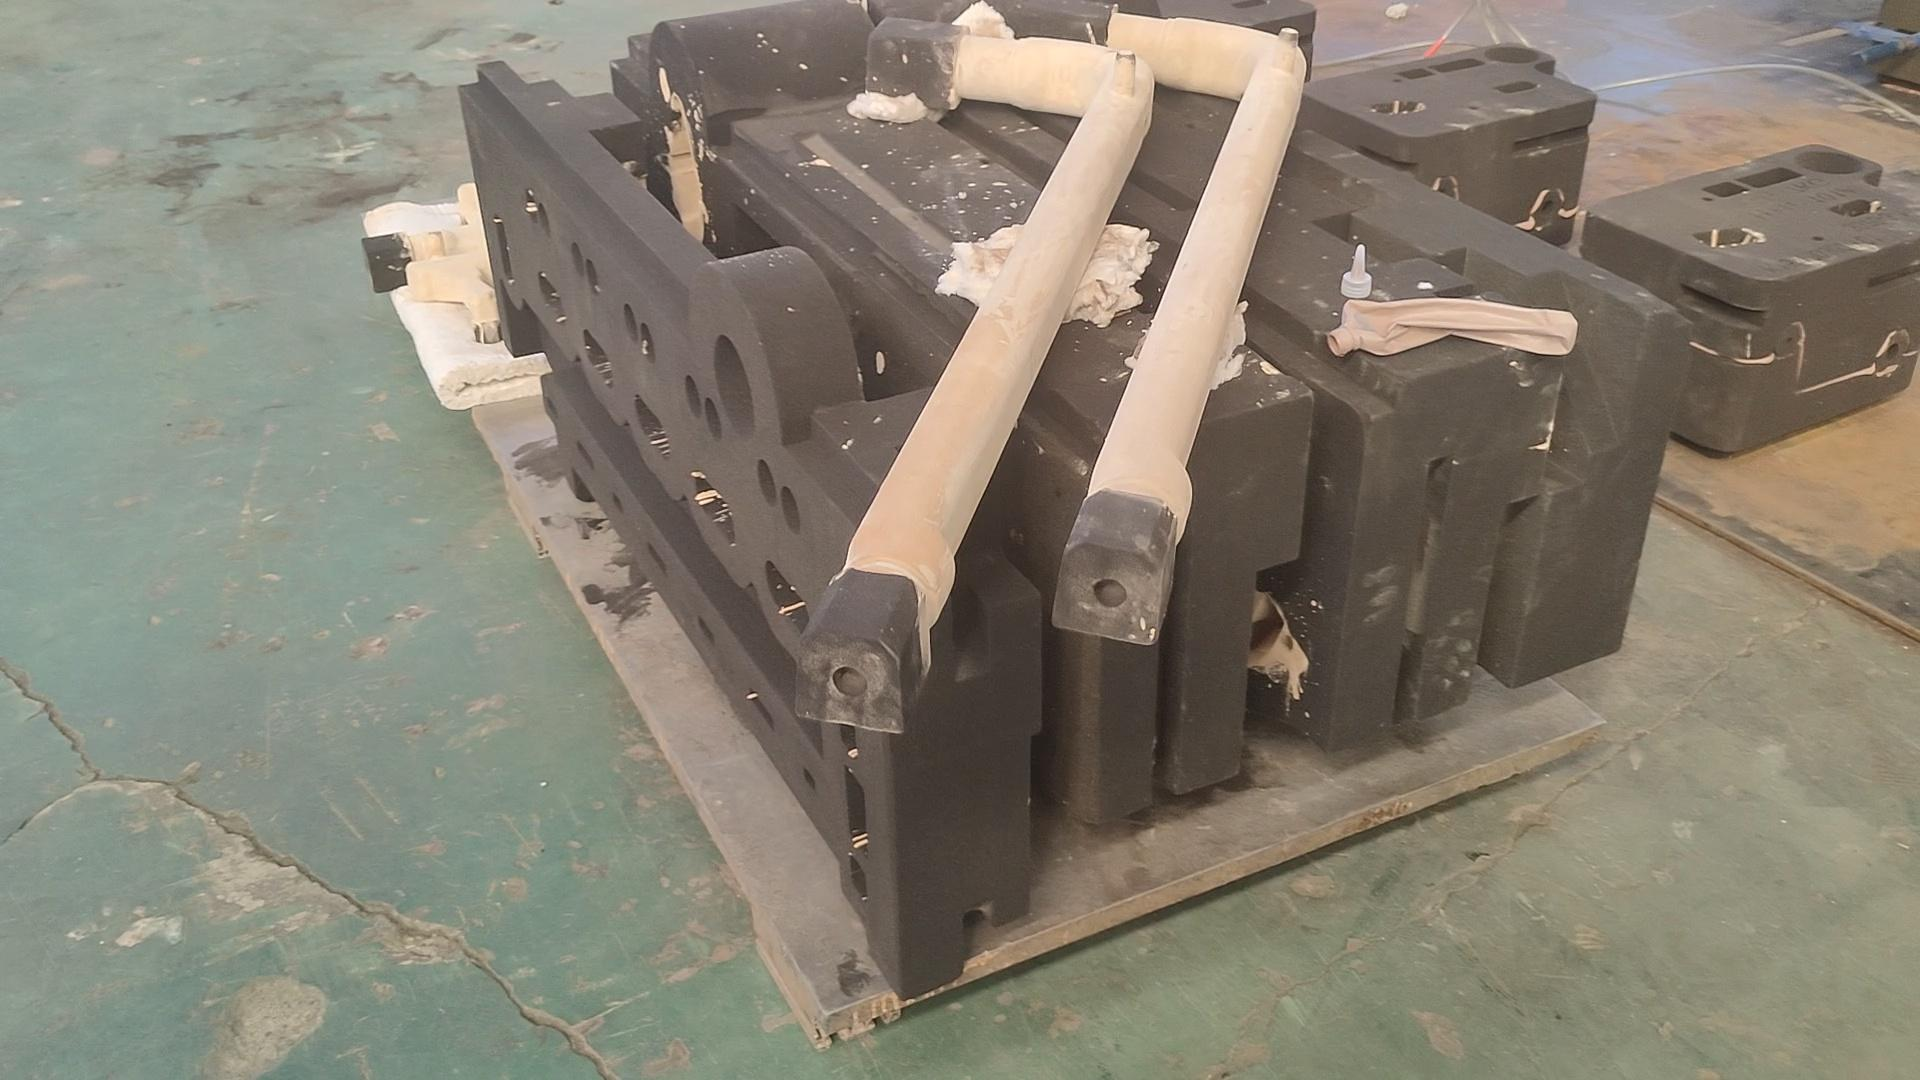pouring hole: (711, 335, 756, 442), (1793, 150, 1865, 173), (1484, 46, 1542, 63)
